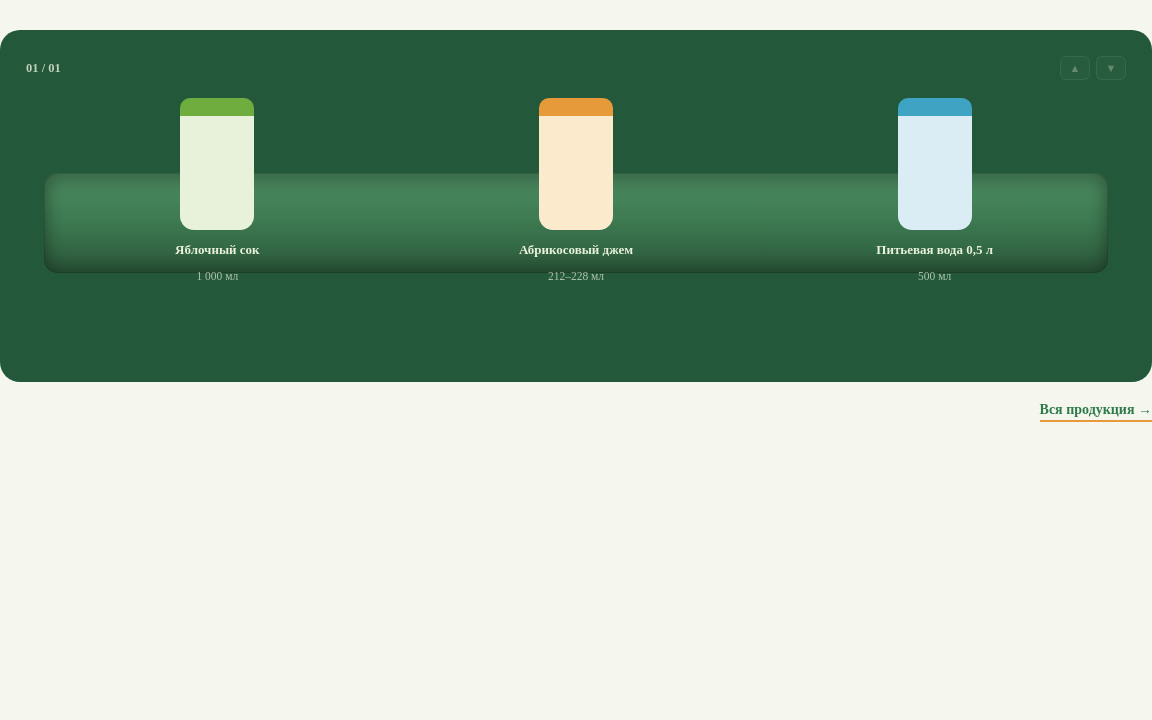
Product quick-look › shows specifications without inventing any
Click the text "Питьевая вода 0,5 л".
click(935, 250)  # box [876,242,993,258]
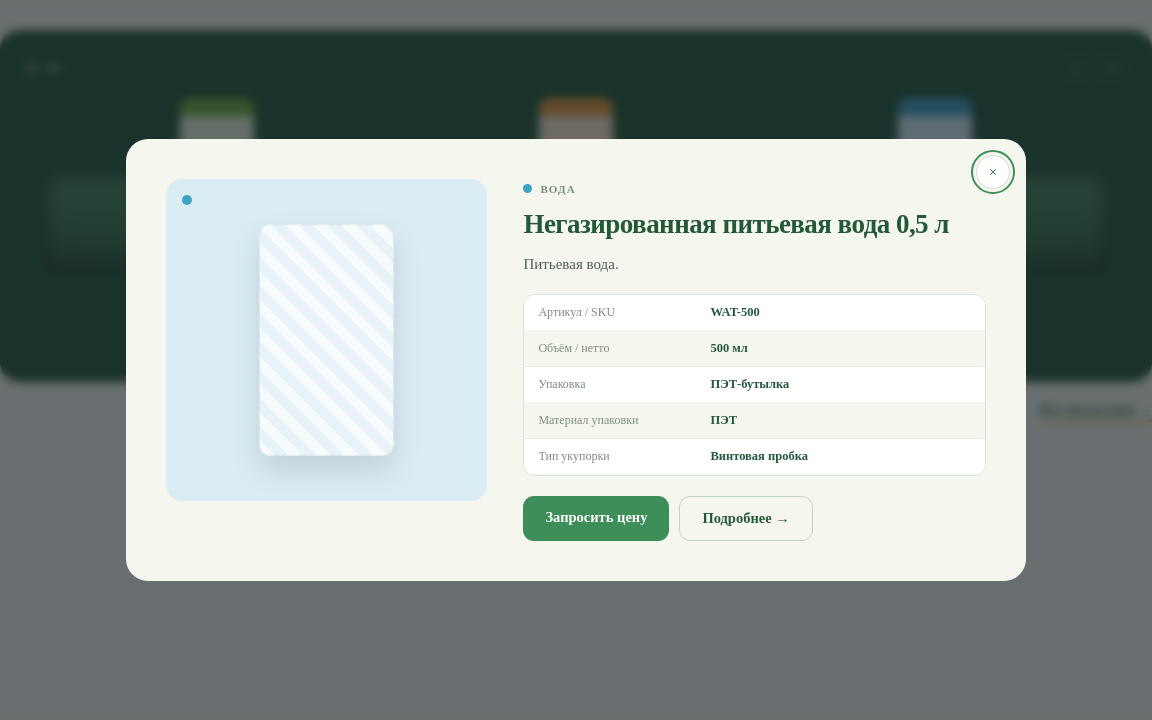
Check: the text "WAT-500" is shown, box [710,305,760,319]
Check: the text "ПЭТ" is shown, box [710,413,737,427]
Check: the text "Винтовая пробка" is shown, box [710,449,808,463]
